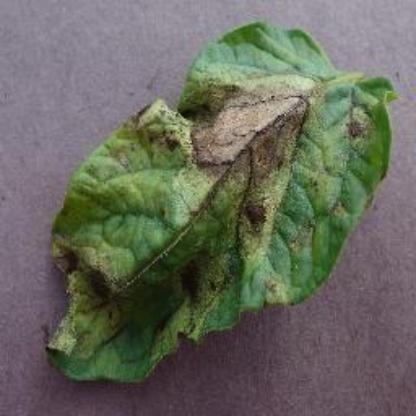Late-Blight: (36, 16, 400, 386)
